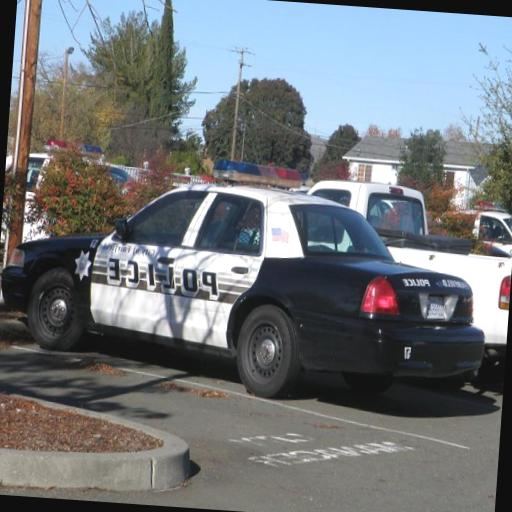Ambulance: (0, 144, 493, 393)
